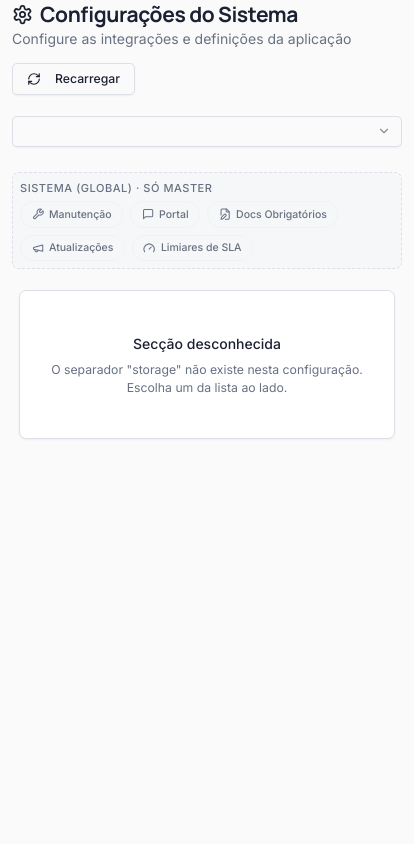
it: a navegação das secções dedicadas › o chip do ecrã estreito abre a secção
This screenshot has width=414, height=844.
Click the button with test id "chip-dashboard-slas".
click(192, 248)  # box [132,235,253,261]
(page scrolled)
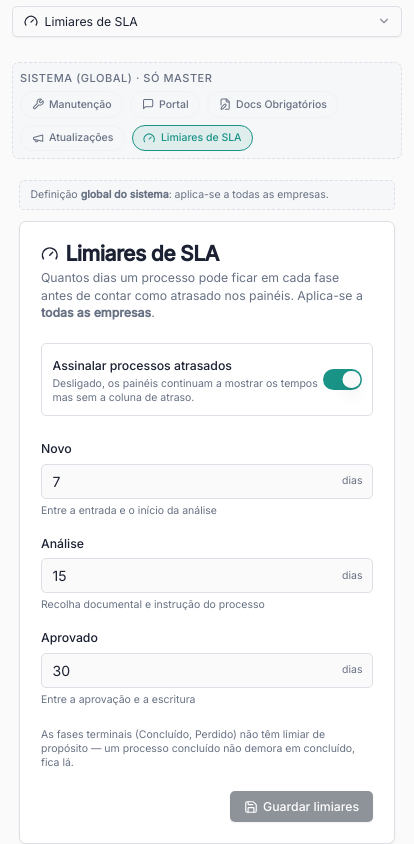
Now the element with test id "sla-thresholds-section" is shown
